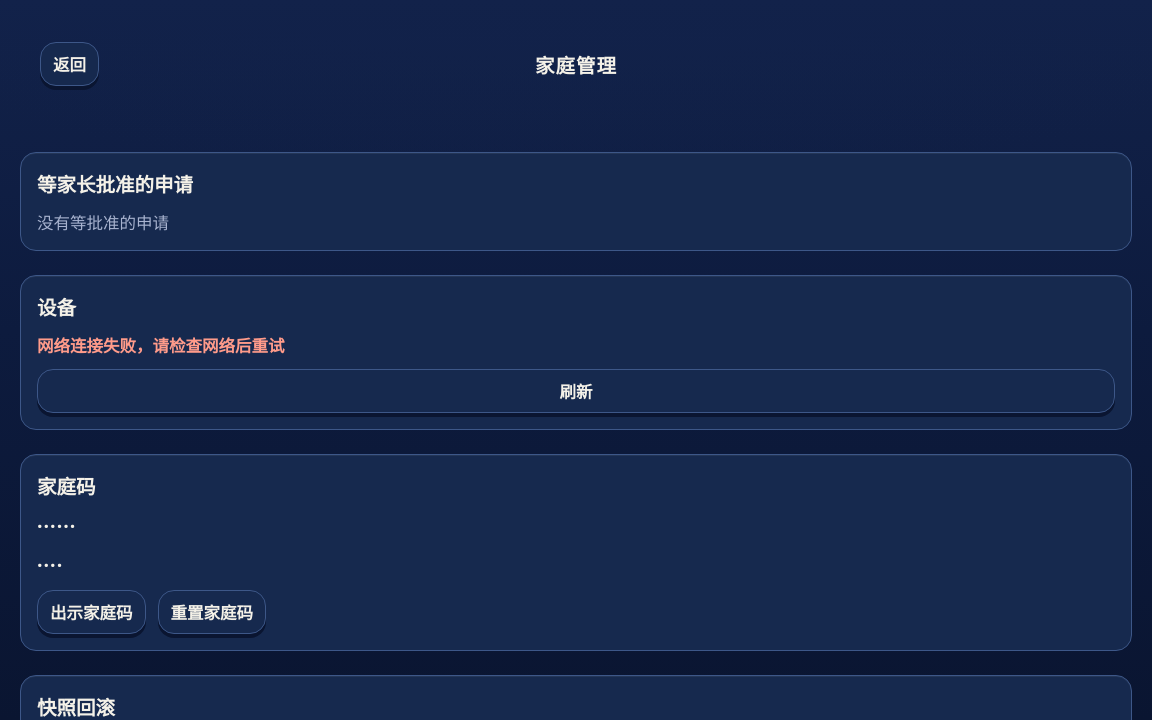
Test case: #127 断网零退化（请求失败明确反馈可重试，不影响其他功能） › 设备/快照拉取失败：各块错误反馈 + 刷新按钮；家庭码块照常；页面与家长页入口已分离（#132）
The width and height of the screenshot is (1152, 720).
Expected: the message with class "star-section-error" reads "网络连接失败，请检查网络后重试", [37, 334, 284, 357]
Expected: the button with class "star-section-refresh" is shown, [37, 369, 1115, 413]
Note: 家庭码块照常（点出示 → network 错误提示，重试通道仍在）
Click the button with class "btn-code-show".
click(91, 612)  # box [37, 590, 146, 634]
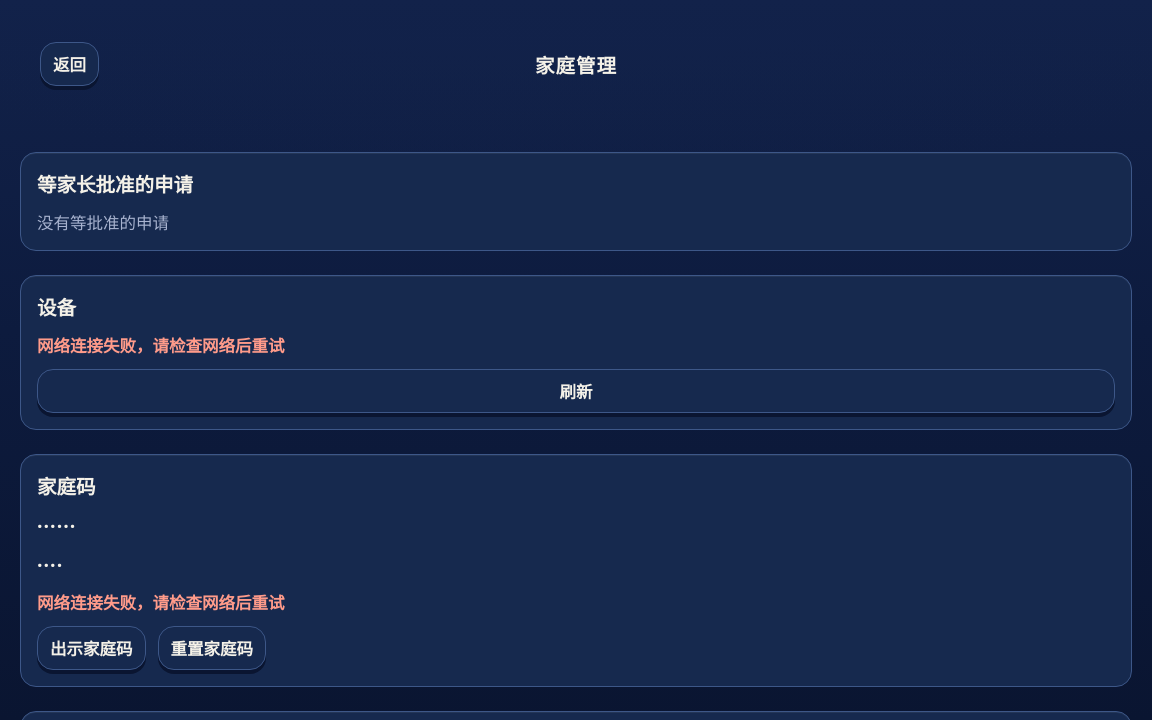
Expected: the message with class "family-code-error" reads "网络连接失败，请检查网络后重试", [37, 591, 284, 614]
